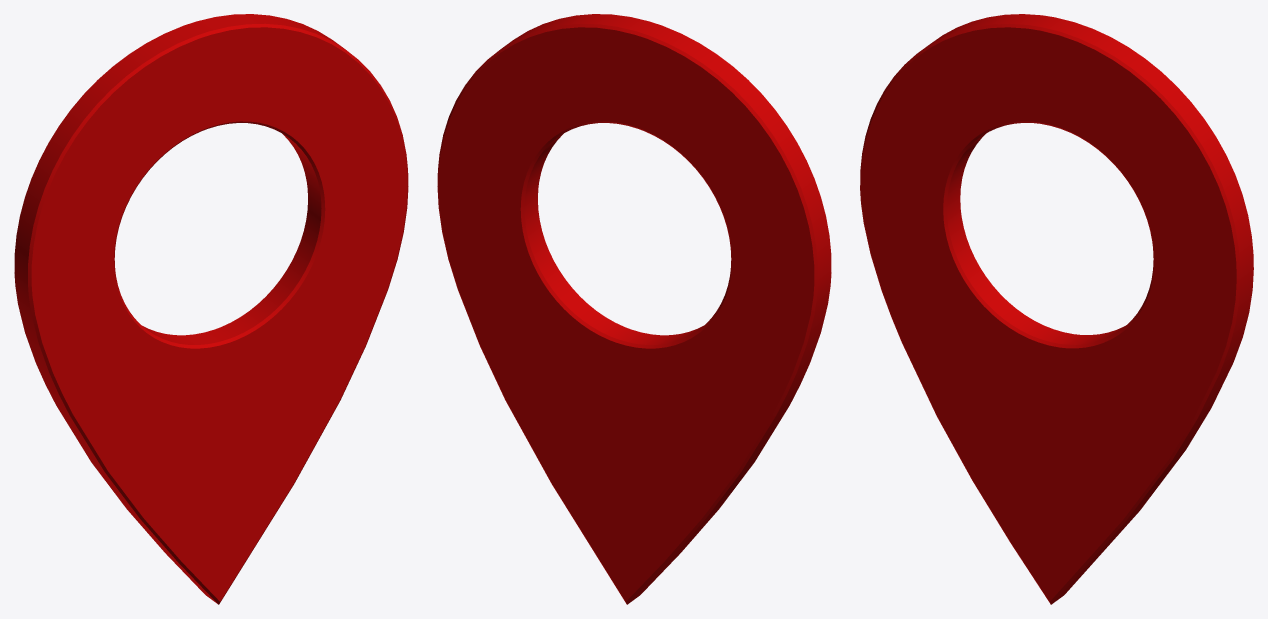
The model's file is geo-thing.obj.
3 views of the same model, side by side, from view 1: azimuth 30°, elevation 25°; view 2: azimuth 150°, elevation 25°; view 3: azimuth 330°, elevation 25° (orthographic).
Parts seen in each view (by area): view 1: Cap_2, Extrude, Rounding_2; view 2: Cap_1, Extrude, Rounding_1; view 3: Cap_2, Extrude, Rounding_2.
Boxes of the visible parts, x1,y1,x2,y2 form: Cap_2: (31, 27, 407, 601); Extrude: (14, 14, 342, 603); Rounding_2: (28, 23, 408, 604); Cap_1: (438, 27, 814, 601); Extrude: (503, 14, 831, 603); Rounding_1: (437, 23, 817, 604); Cap_2: (861, 27, 1236, 601); Extrude: (921, 14, 1253, 604); Rounding_2: (860, 23, 1240, 604).
Size of the model in its own units: 40.29 by 58.26 by 2.96.
